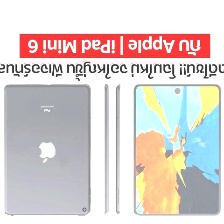phone: (130, 81, 223, 220), (2, 81, 95, 217), (101, 82, 111, 217), (114, 81, 122, 217)
